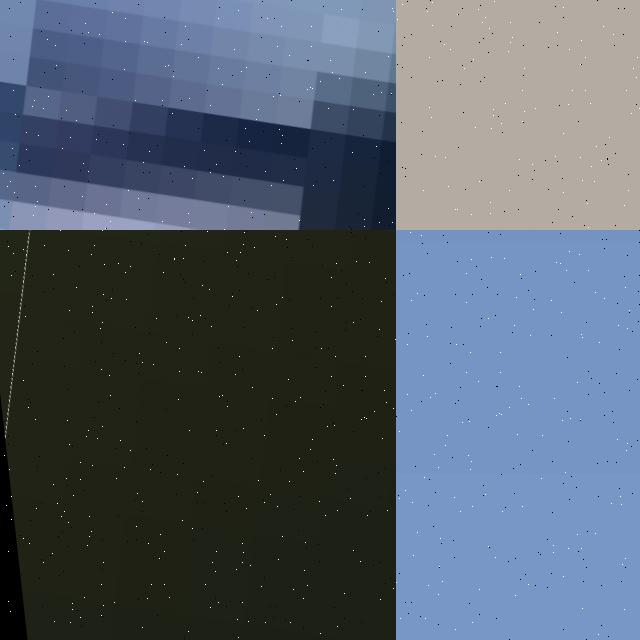0: (0, 0, 396, 230)
drone: (0, 230, 396, 640)
